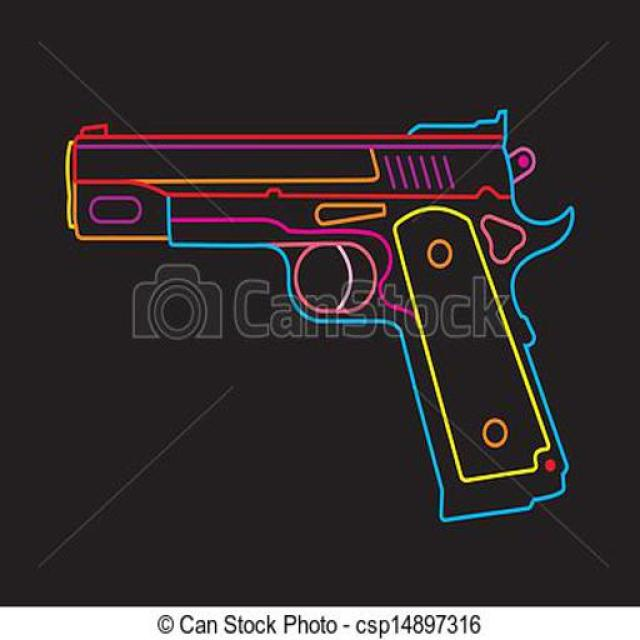pistol: (64, 107, 574, 521)
